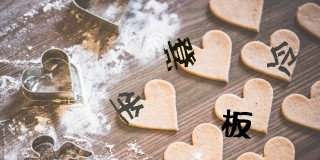冷: (265, 40, 298, 75)
凳: (163, 36, 197, 73)
坐: (109, 91, 145, 125)
板: (221, 107, 253, 141)
